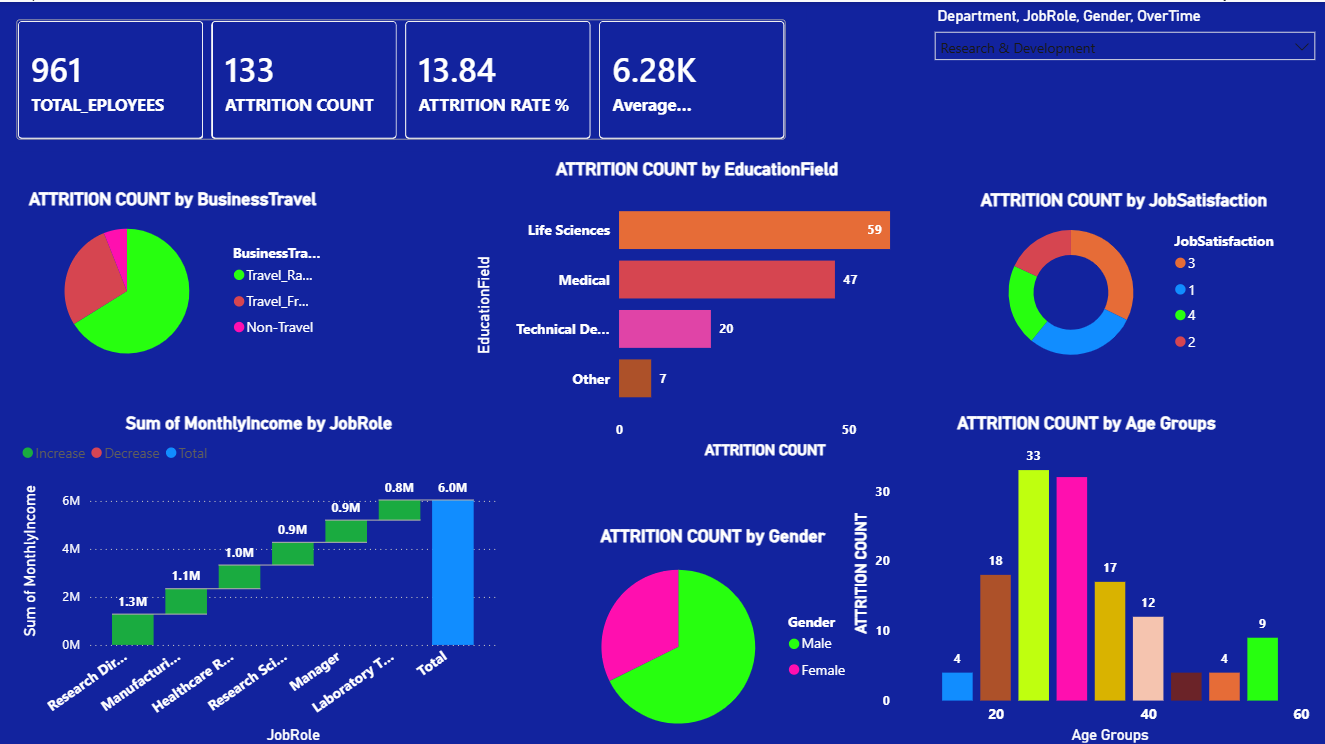

Layout of this report page (visuals, bound fields, positions):
{"tool":"powerbi","page":{"name":"Page 1","canvas":[1280,720],"ordinal":0},"visuals":[{"type":"clusteredBarChart","fields":{"Category":["HR.EducationField"],"Y":["HR.ATTRITION COUNT"]},"box":[454.8,150.8,437.9,294.4],"z":1},{"type":"columnChart","fields":{"Y":["HR.ATTRITION COUNT"],"Category":["HR.Age Groups"]},"box":[819.2,395.7,460.9,324.5],"z":2},{"type":"donutChart","fields":{"Category":["HR.JobSatisfaction"],"Y":["HR.ATTRITION COUNT"]},"box":[930.2,181,311.3,179.8],"z":3},{"type":"pieChart","fields":{"Y":["HR.ATTRITION COUNT"],"Category":["HR.Gender"]},"box":[545.3,505.5,287.1,214.7],"z":4},{"type":"waterfallChart","fields":{"Category":["HR.JobRole"],"Y":["Sum(HR.MonthlyIncome)"]},"box":[16.9,395.7,468.1,324.5],"z":5},{"type":"pieChart","fields":{"Category":["HR.BusinessTravel"],"Y":["HR.ATTRITION COUNT"]},"box":[16.9,179.8,301.6,179.8],"z":6},{"type":"cardVisual","fields":{"Data":["HR.TOTAL_EPLOYEES","HR.ATTRITION COUNT","HR.ATTRITION RATE %","Avg(HR.MonthlyIncome)"]},"box":[0,0,779.4,150.8],"z":8},{"type":"slicer","fields":{"Values":["HR.Department","HR.JobRole","HR.Gender","HR.OverTime"]},"box":[892.8,0,387.3,126.7],"z":12}]}

Visuals, with their boxes in screenshot pixels (x1, y1, x2, y2), scaled from the page's 1280x720 canvas onto the 1325x744 screenshot:
clusteredBarChart - HR.EducationField x HR.ATTRITION COUNT: bbox=[471, 156, 924, 460]
columnChart - HR.ATTRITION COUNT x HR.Age Groups: bbox=[848, 409, 1324, 743]
donutChart - HR.JobSatisfaction x HR.ATTRITION COUNT: bbox=[963, 187, 1285, 373]
pieChart - HR.ATTRITION COUNT x HR.Gender: bbox=[564, 522, 862, 743]
waterfallChart - HR.JobRole x Sum(HR.MonthlyIncome): bbox=[17, 409, 502, 743]
pieChart - HR.BusinessTravel x HR.ATTRITION COUNT: bbox=[17, 186, 330, 372]
cardVisual - HR.TOTAL_EPLOYEES x HR.ATTRITION COUNT: bbox=[0, 0, 807, 156]
slicer - HR.Department x HR.JobRole: bbox=[924, 0, 1324, 131]
